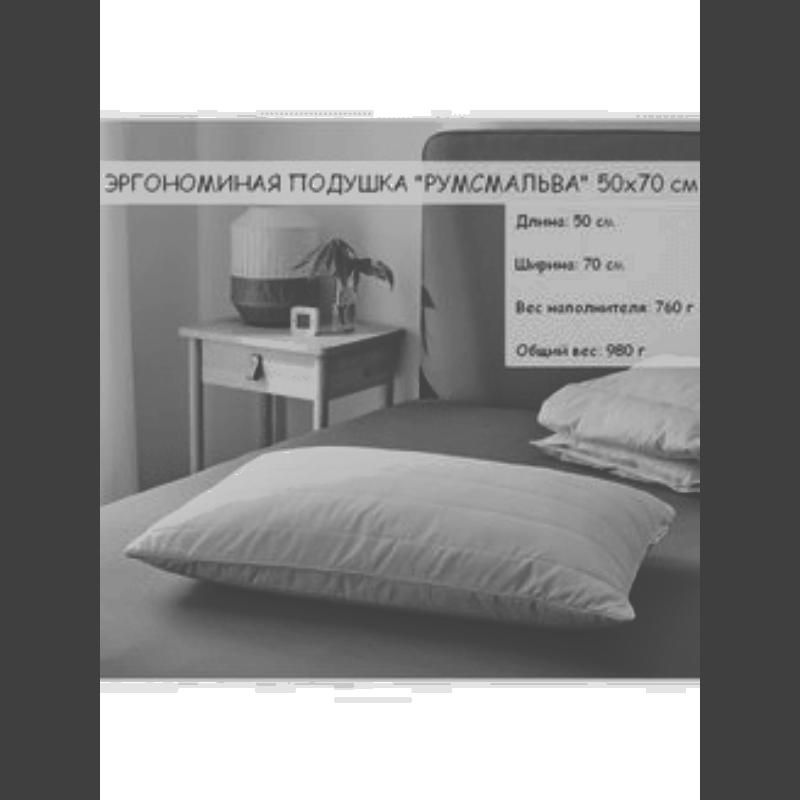pillow: (116, 440, 682, 638)
